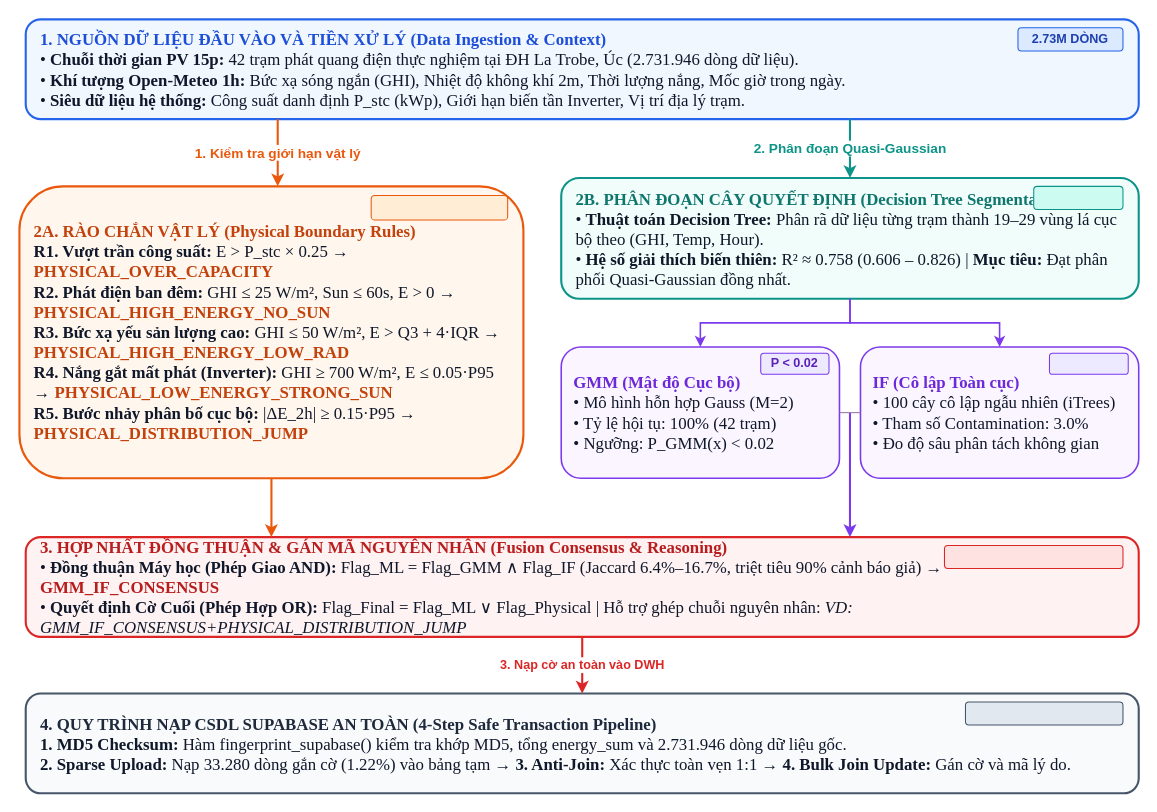
Image size: 1157x812. Some labels were removed from this diagram. Each missing label, with the box of its shape:
33.280 DÒNG (1.22%): (964, 701, 1123, 725)
5 QUY TẮC VẬT LÝ: (370, 194, 508, 220)
Contam 3%: (1048, 352, 1128, 374)
R² ≈ 0.758: (1033, 185, 1123, 209)
TRIỆT TIÊU 90% BÁO GIẢ: (943, 544, 1123, 569)
